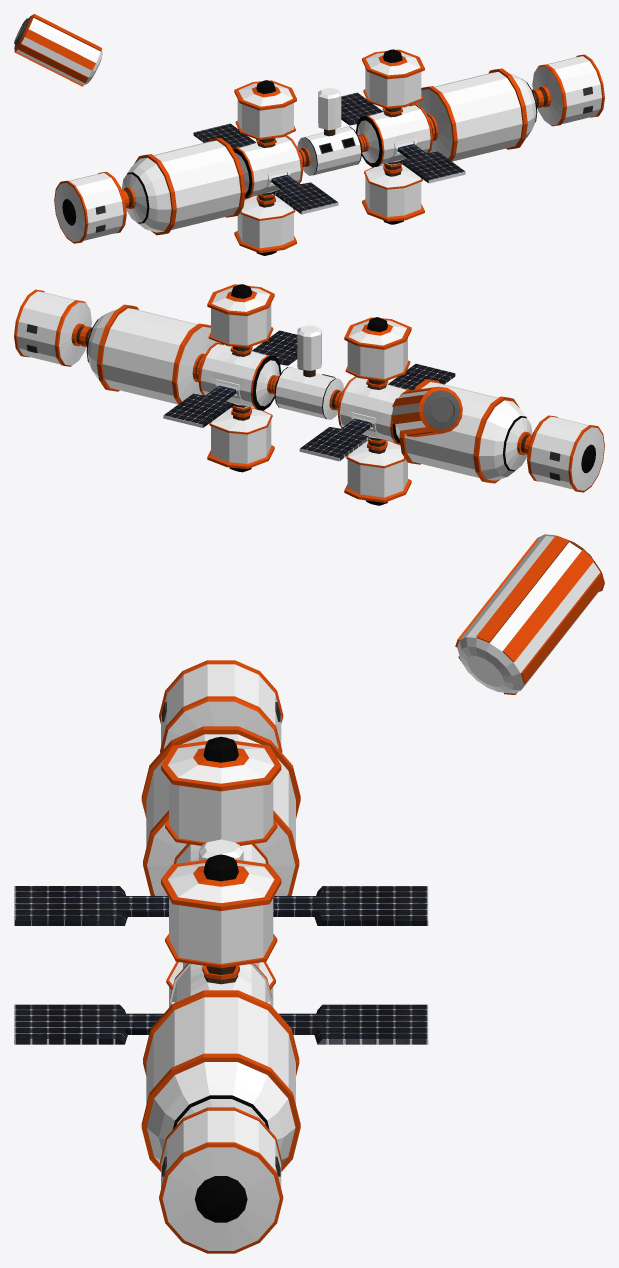
Rendered from low-poly_space_station.glb.
The picture shows the model from 3 angles, top to bottom: view 1: azimuth 30°, elevation 25°; view 2: azimuth 150°, elevation 25°; view 3: azimuth 270°, elevation 25°; orthographic projection. The views are drawn at different scales.
Parts seen in each view (by area): view 1: Cylinder, Cylinder.001; view 2: Cylinder, Cylinder.001; view 3: Cylinder, Cylinder.001.
Boxes of the visible parts, x1,y1,x2,y2 form: Cylinder: [54, 49, 604, 255]; Cylinder.001: [14, 14, 102, 86]; Cylinder: [14, 284, 604, 505]; Cylinder.001: [391, 386, 462, 437]; Cylinder: [14, 660, 428, 1253]; Cylinder.001: [455, 534, 604, 695].
Size of the model in its own units: 4.7 by 1.78 by 2.39.
1 material, 1 textured.
